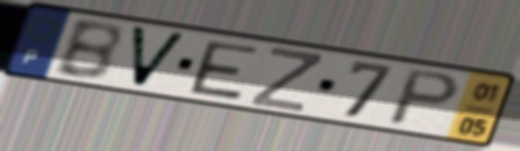7: (340, 58, 401, 121)
B: (50, 18, 124, 83)
E: (187, 38, 262, 103)
P: (383, 67, 465, 129)
V: (127, 22, 191, 91)
Z: (247, 44, 326, 114)
